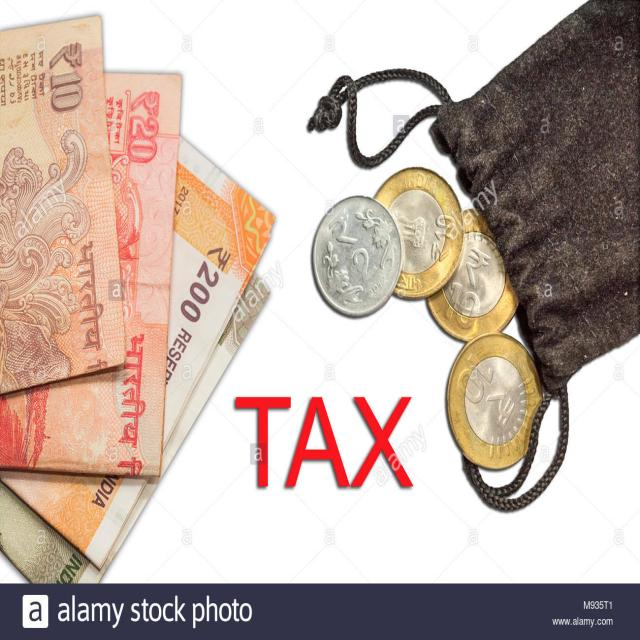10IndianRupees: (0, 11, 112, 385)
